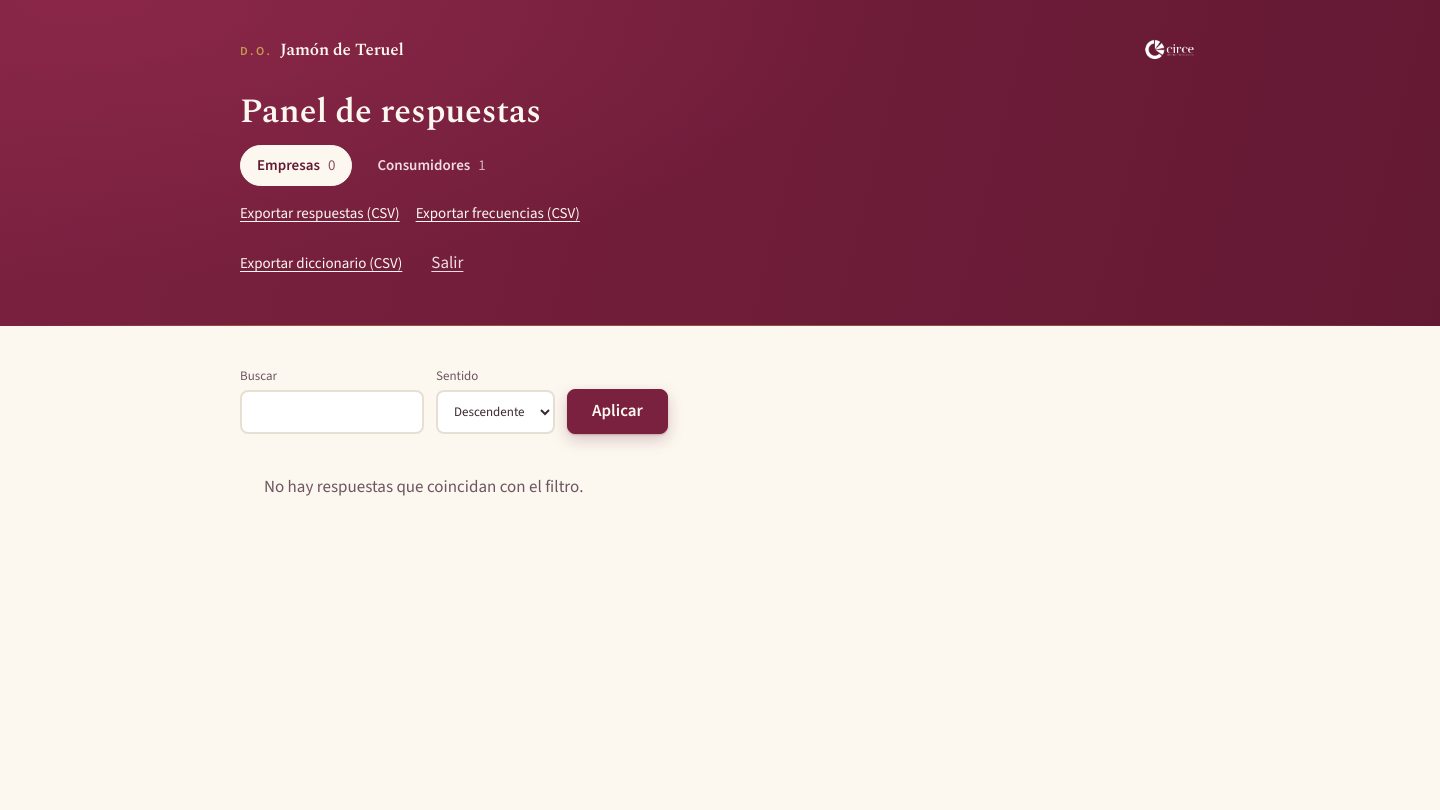
Test: the admin panel › shows a price with its unit, not a bare number
Note: El precio es de un consumidor: hay que ir a su pestaña.
Click the button "Consumidores 1". click: (432, 165)
box: [360,145,503,186]
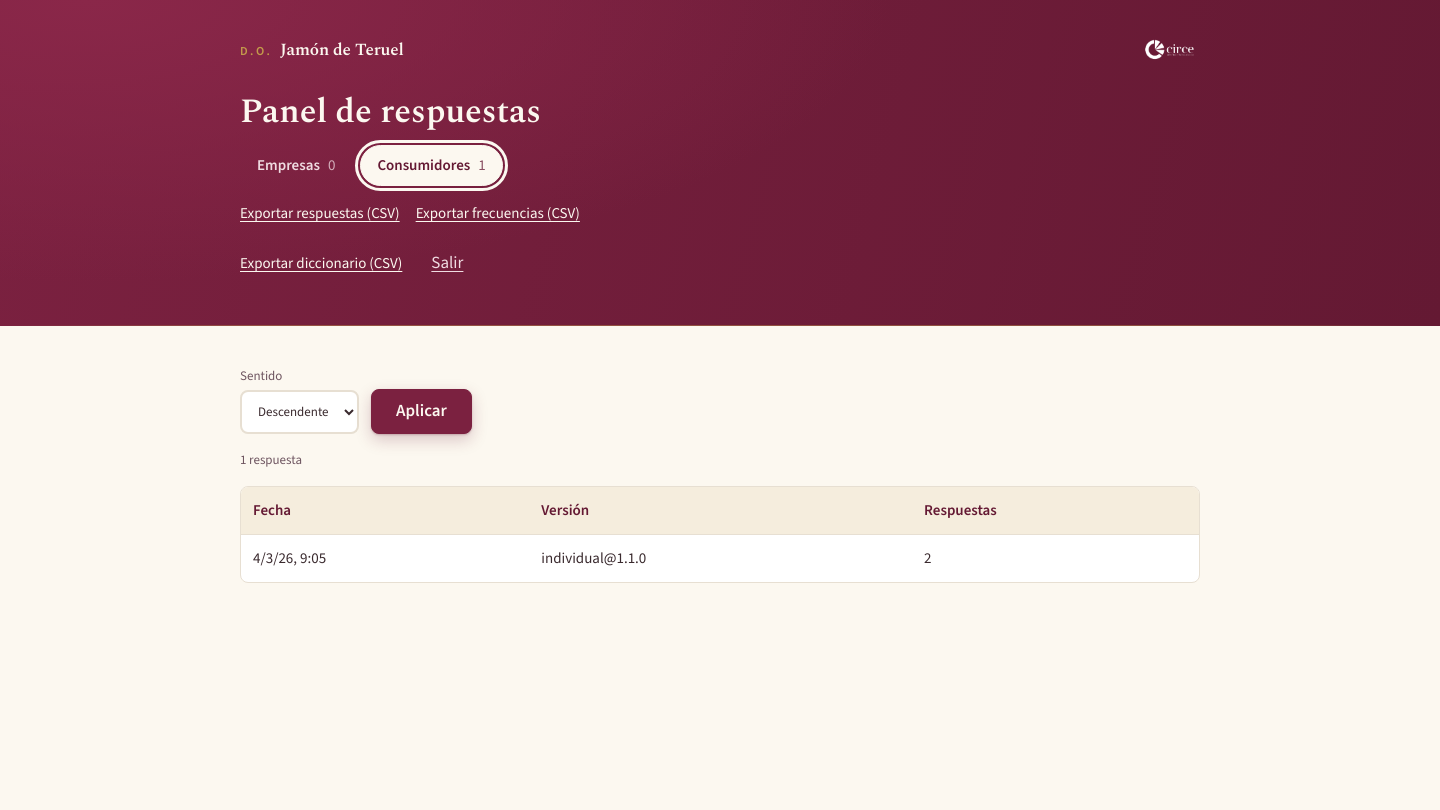
Click the button "4/3/26, 9:05 individual@1.1.0 2". click: (290, 558)
box: [241,535,1199,582]
(page scrolled)
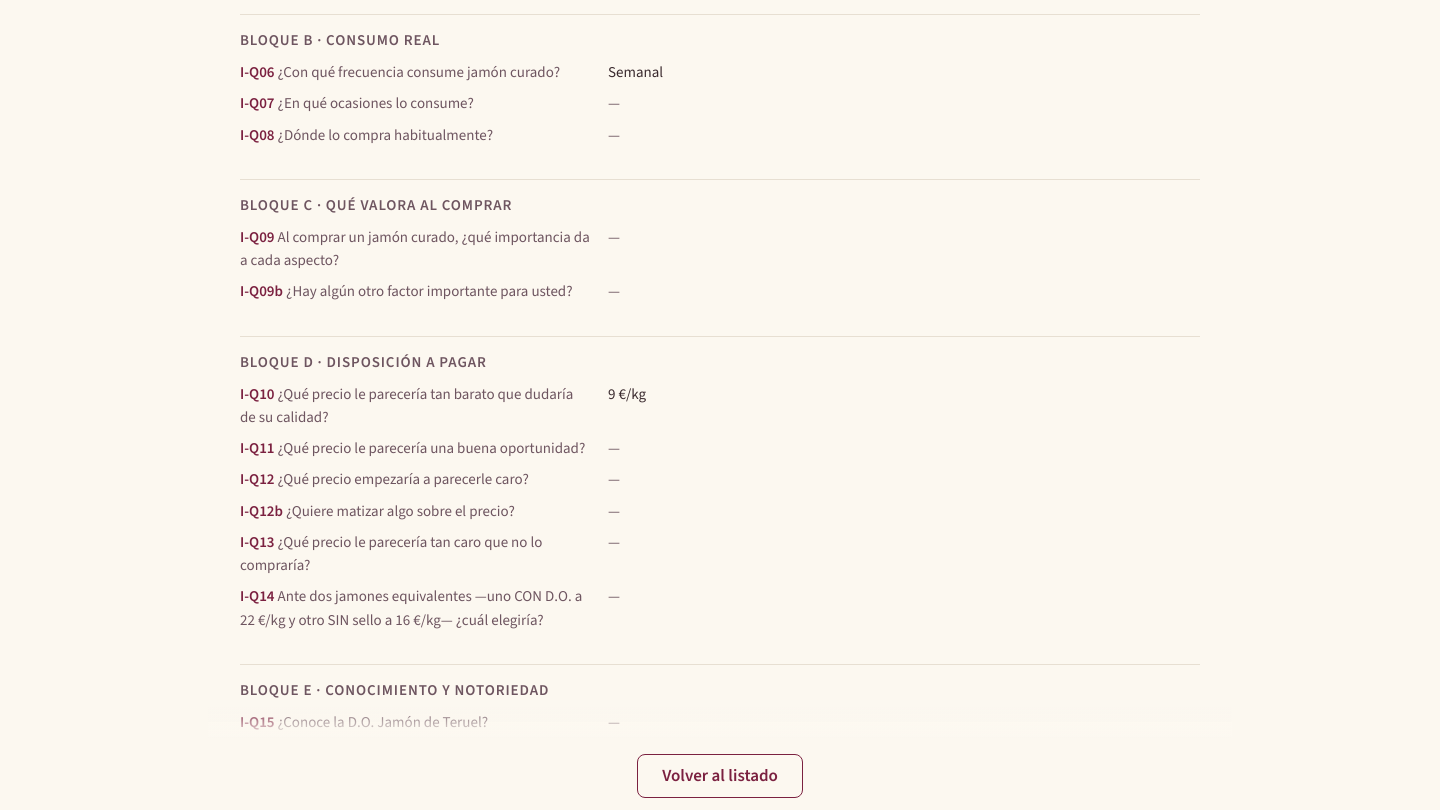
Now the text "9 €/kg" is shown, box [608,384,646,404]
